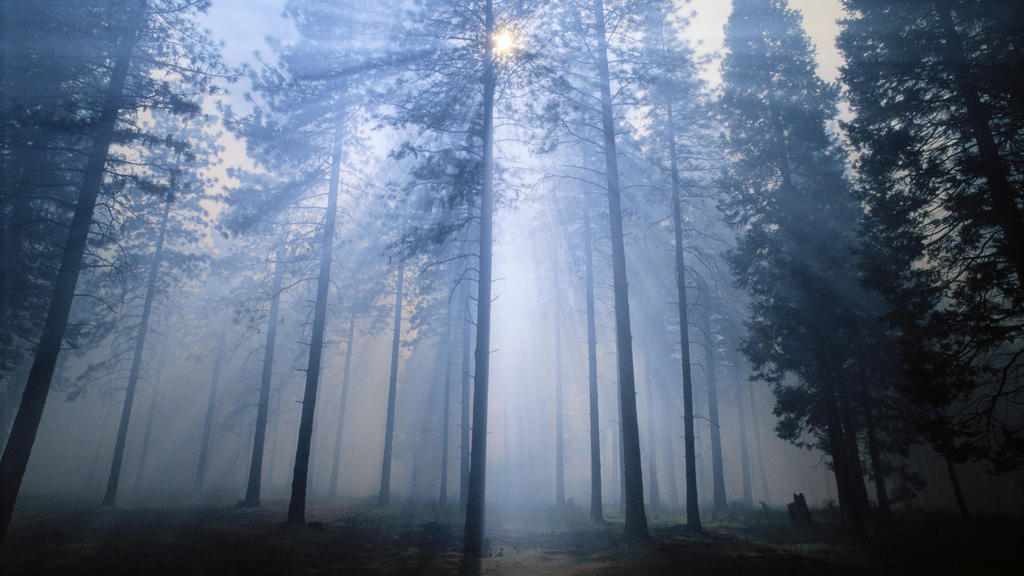Tree: (0, 0, 846, 575), (840, 0, 1023, 474)
